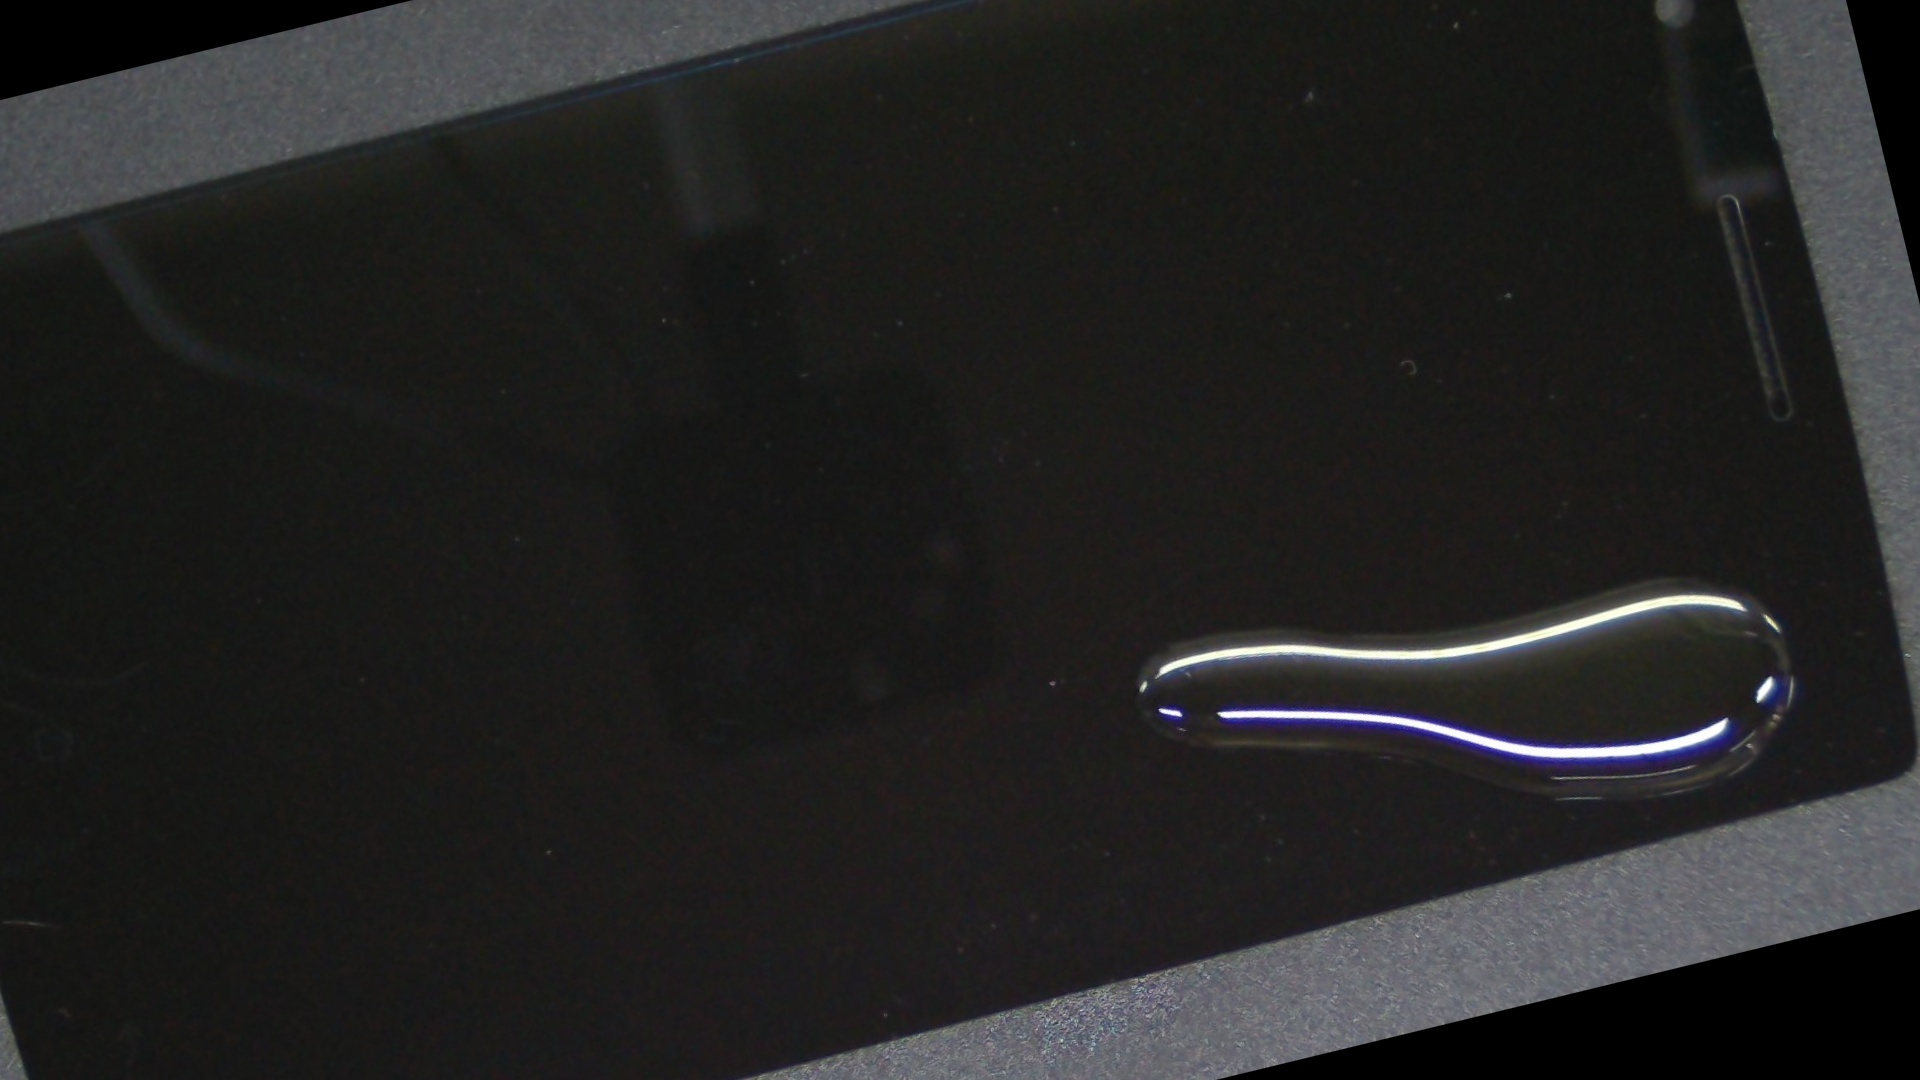oil: (429, 96, 1913, 1080)
